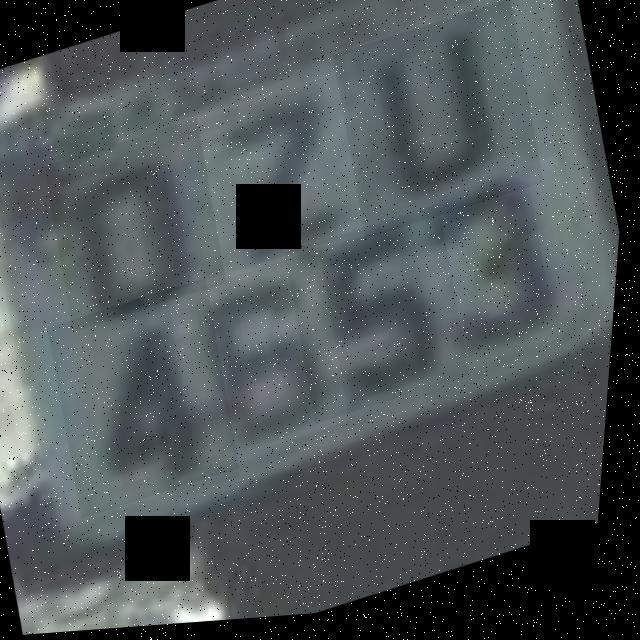3: (383, 161, 616, 414)
4: (41, 278, 258, 523)
5: (278, 208, 486, 432)
6: (161, 247, 366, 474)
O: (36, 119, 240, 335)
U: (323, 3, 557, 247)
Z: (189, 72, 382, 285)
